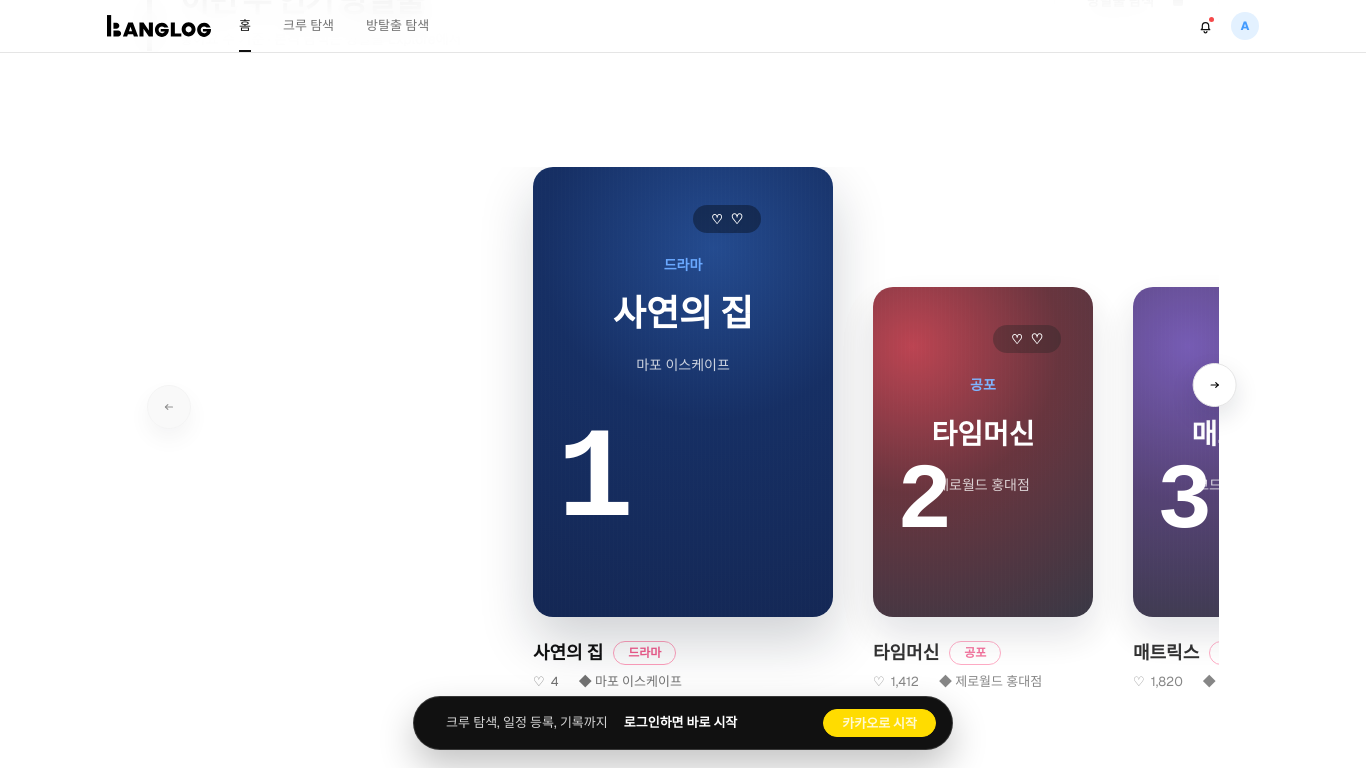
Test: Home page › renders the guest landing home with previews, primary actions, and theme favorite buttons
This screenshot has width=1366, height=768.
(page scrolled)
Expected: the header is shown, x1=0 y1=0 x2=1365 y2=53
Expected: the picture named "알림" is shown, x1=1195 y1=16 x2=1215 y2=36
Click the button named "다음 인기 방탈출" at (1215, 385), box x1=1193 y1=363 x2=1237 y2=407
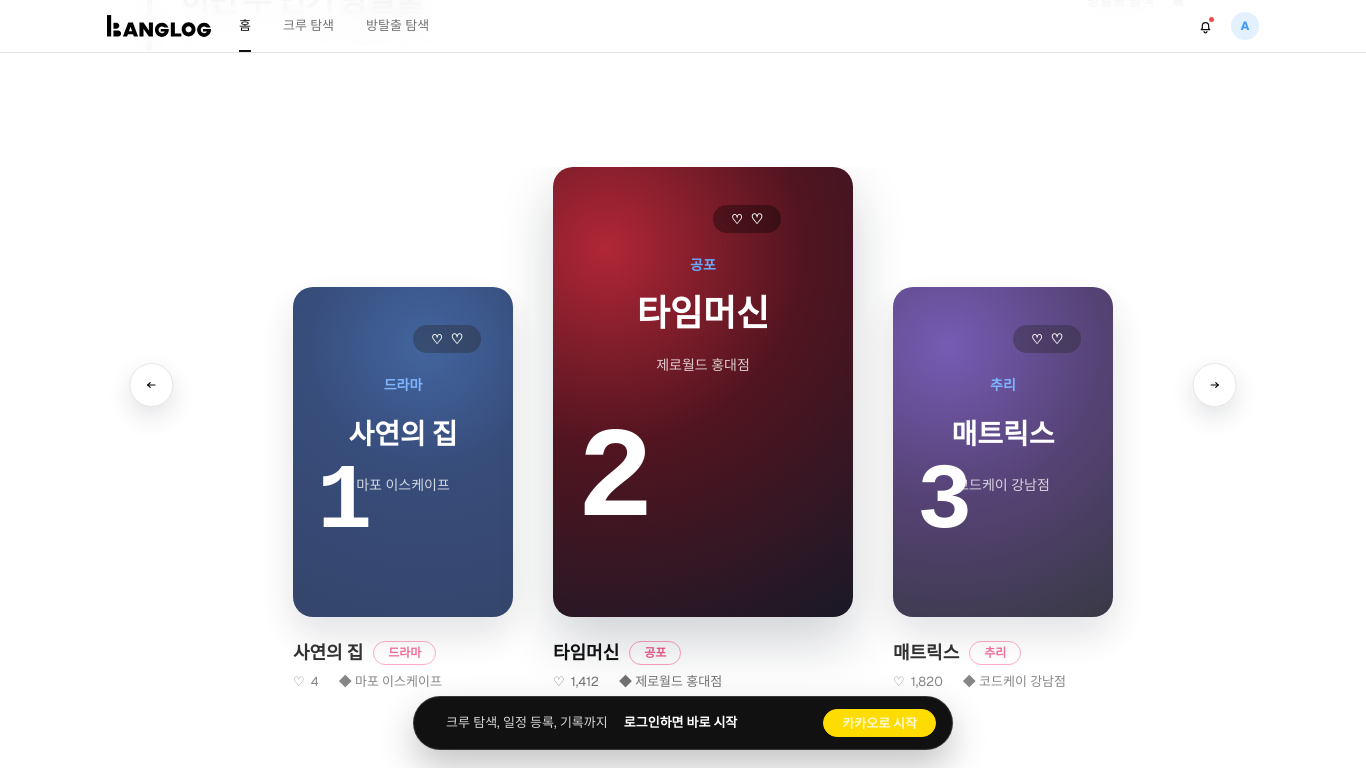
Expected: the element named "비로그인 시작 안내" shows "크루 탐색, 일정 등록, 기록까지", x1=446 y1=714 x2=608 y2=731
Expected: the button named "이전 인기 방탈출" is enabled, x1=129 y1=363 x2=173 y2=407
